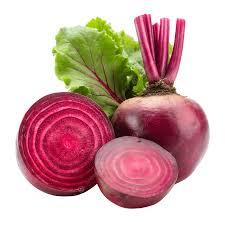non-mango: (15, 91, 114, 196), (93, 135, 179, 208)
